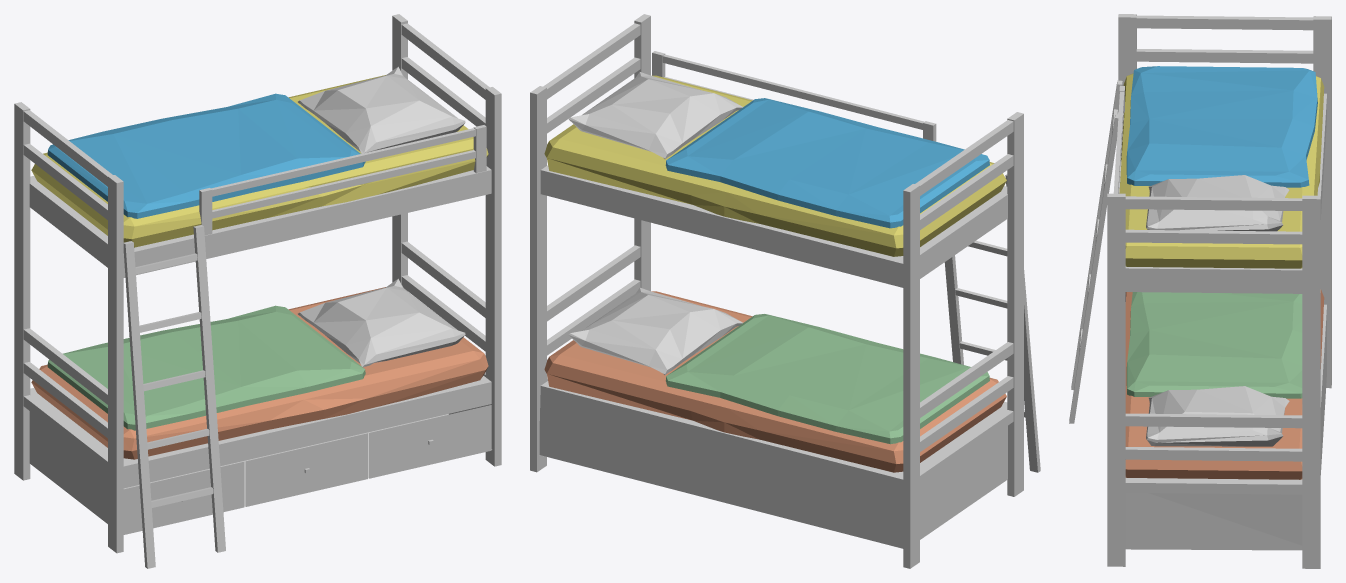
Rendered from litSuperposer.glb.
3 renders of one model, left to right at view 1: azimuth 30°, elevation 25°; view 2: azimuth 150°, elevation 25°; view 3: azimuth 270°, elevation 25°, orthographic. The views are drawn at different scales.
Visible parts, largest first — view 1: New_Game_Object_mat0_0.034; view 2: New_Game_Object_mat0_0.034; view 3: New_Game_Object_mat0_0.034.
Boxes of the visible parts, x1,y1,x2,y2 form: New_Game_Object_mat0_0.034: [14, 14, 501, 568]; New_Game_Object_mat0_0.034: [530, 14, 1040, 568]; New_Game_Object_mat0_0.034: [1069, 14, 1331, 568].
Size of the model in its own units: 1.4 by 1.29 by 0.8316.
